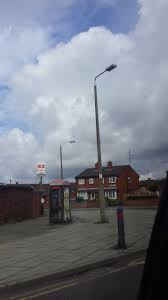light_pole: (88, 68, 112, 226)
